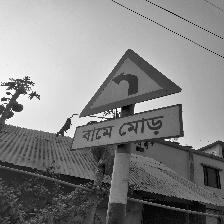Left-Turn: (72, 50, 186, 151)
